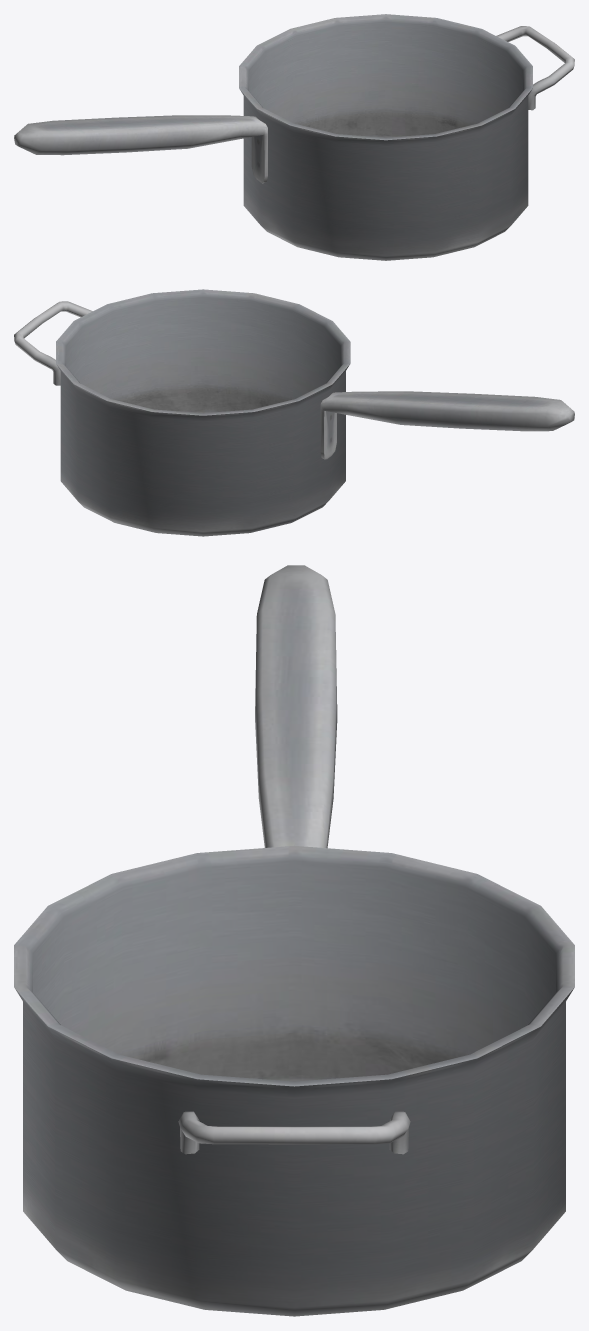
The model's file is SM_Pan_01.glb.
3 views of the same model, one above another, from view 1: azimuth 30°, elevation 25°; view 2: azimuth 150°, elevation 25°; view 3: azimuth 270°, elevation 25° (orthographic). The views are drawn at different scales.
Visible parts, largest first — view 1: SM_Pan_01; view 2: SM_Pan_01; view 3: SM_Pan_01.
Part boxes in pixels (x1=…): SM_Pan_01: x1=14, y1=14, x2=574, y2=260; SM_Pan_01: x1=14, y1=289, x2=574, y2=536; SM_Pan_01: x1=14, y1=565, x2=574, y2=1316.
Bounding box in the file's own units: 0.4299 × 0.1258 × 0.2034.
1 material, 1 textured.
